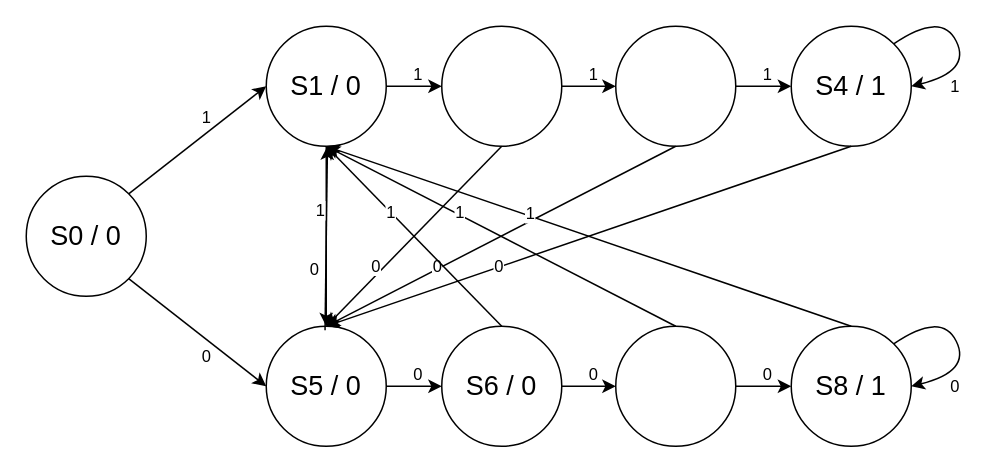
The diagram is 987 pixels wide and 473 high, and some of its shapes have lost their labels. The shapes that lost their labels are listed below. From the top down, each one's centre as x and y in pixels, then its label:
At point (501, 85): "S2 / 0".
At point (675, 85): "S3 / 0".
At point (675, 385): "S7 / 0".
